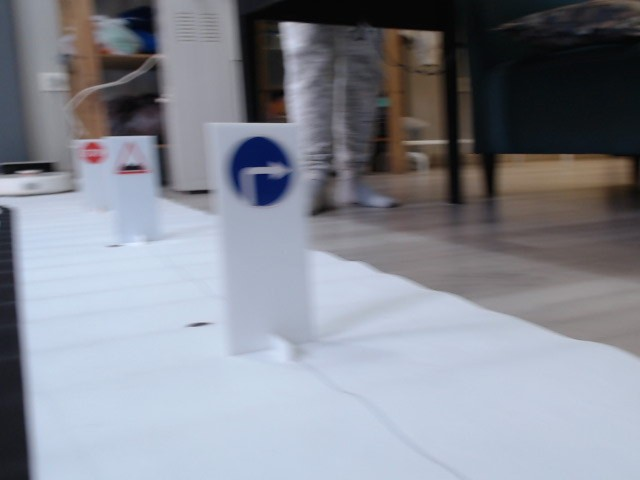Nerov: (117, 142, 152, 177)
Right: (227, 137, 293, 202)
